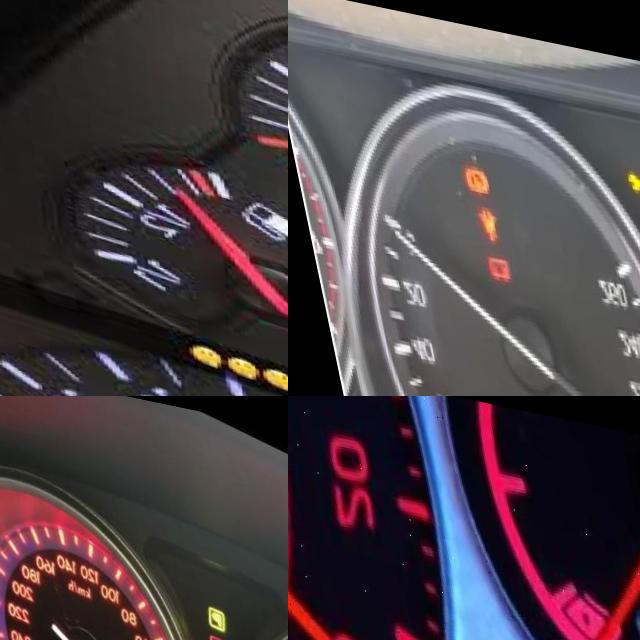Seat Belt: (468, 199, 494, 236)
